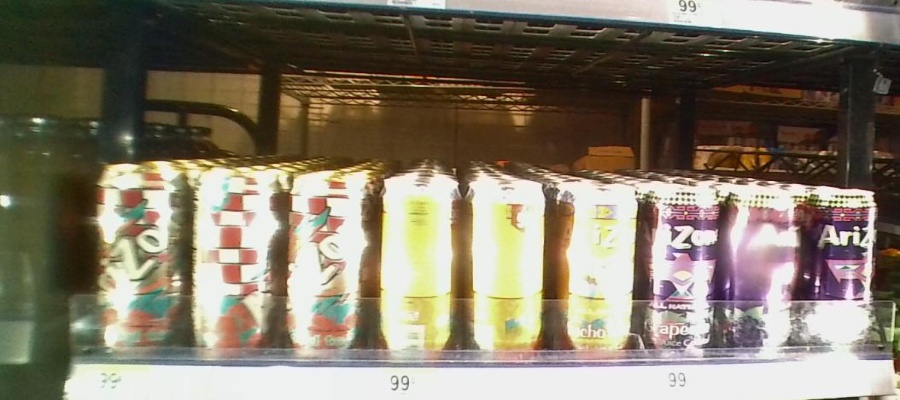bottle: (89, 156, 188, 357), (195, 155, 282, 364), (285, 156, 370, 362), (375, 168, 459, 360), (464, 172, 548, 362), (552, 173, 638, 349), (804, 175, 880, 358), (724, 173, 798, 360), (643, 173, 720, 352)
